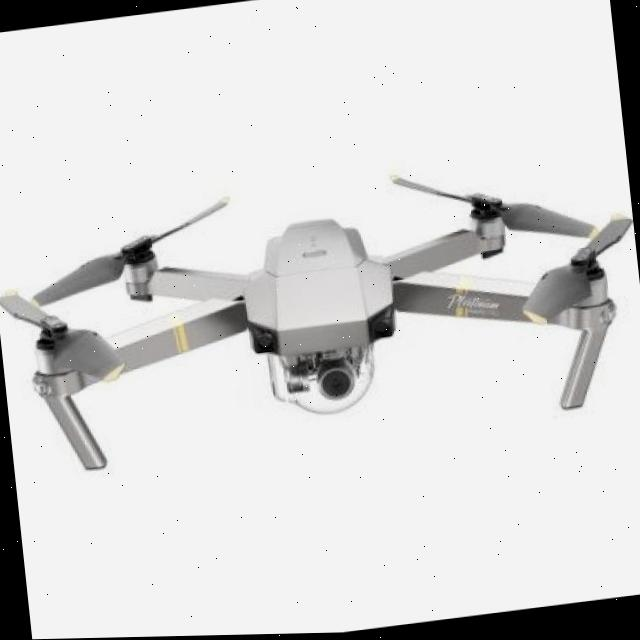drone: (0, 155, 640, 494)
